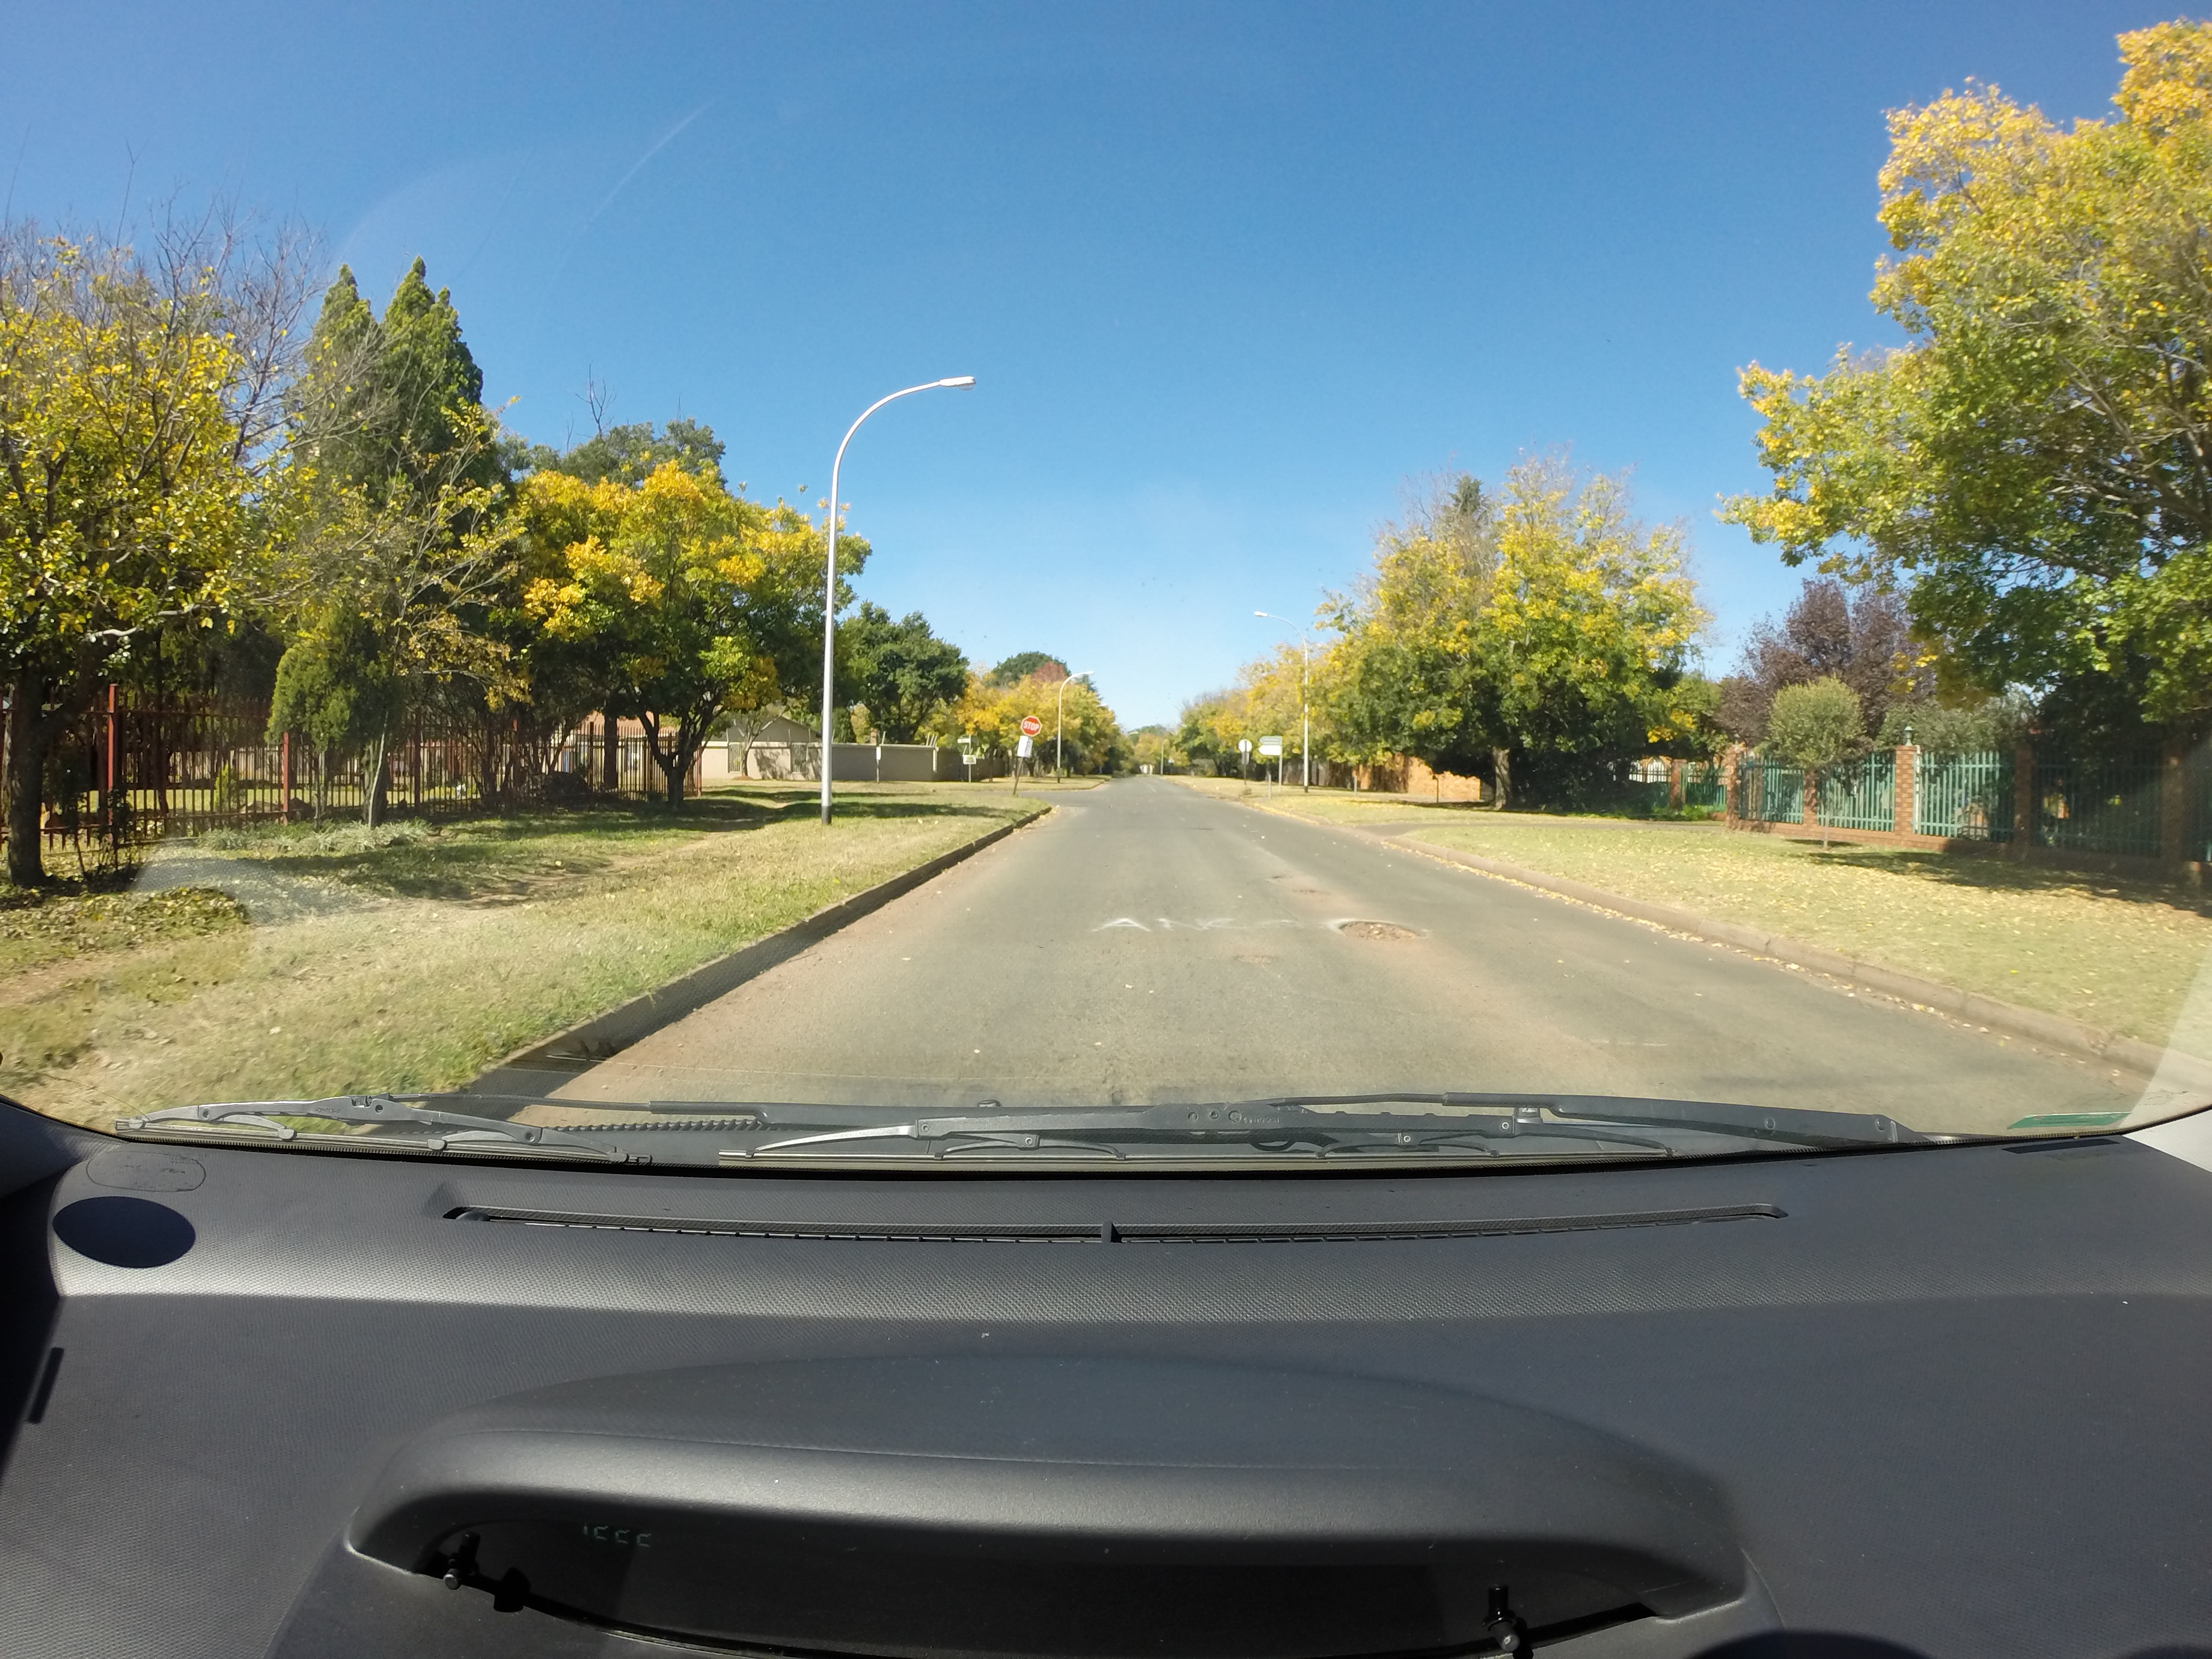pothole: (1313, 908, 1444, 950)
